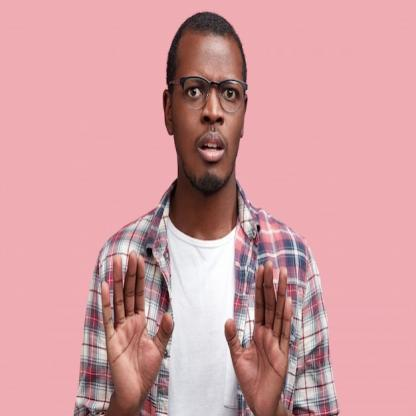stop: (98, 248, 174, 415), (222, 254, 294, 416)
